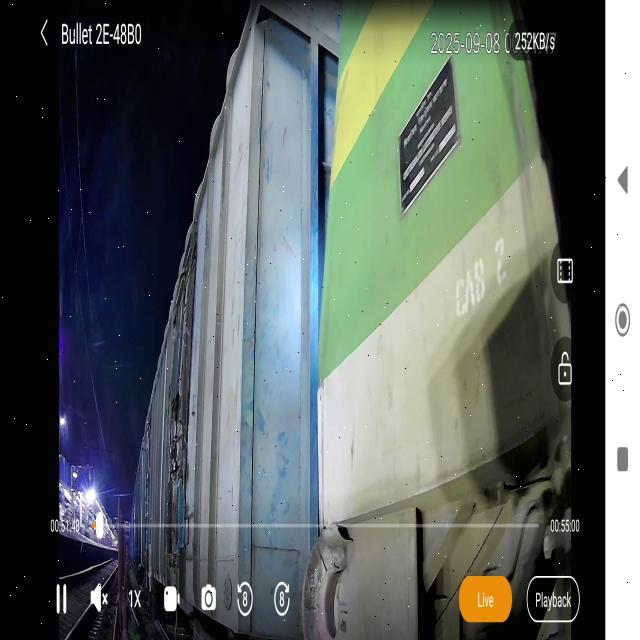joint: (240, 0, 363, 640)
